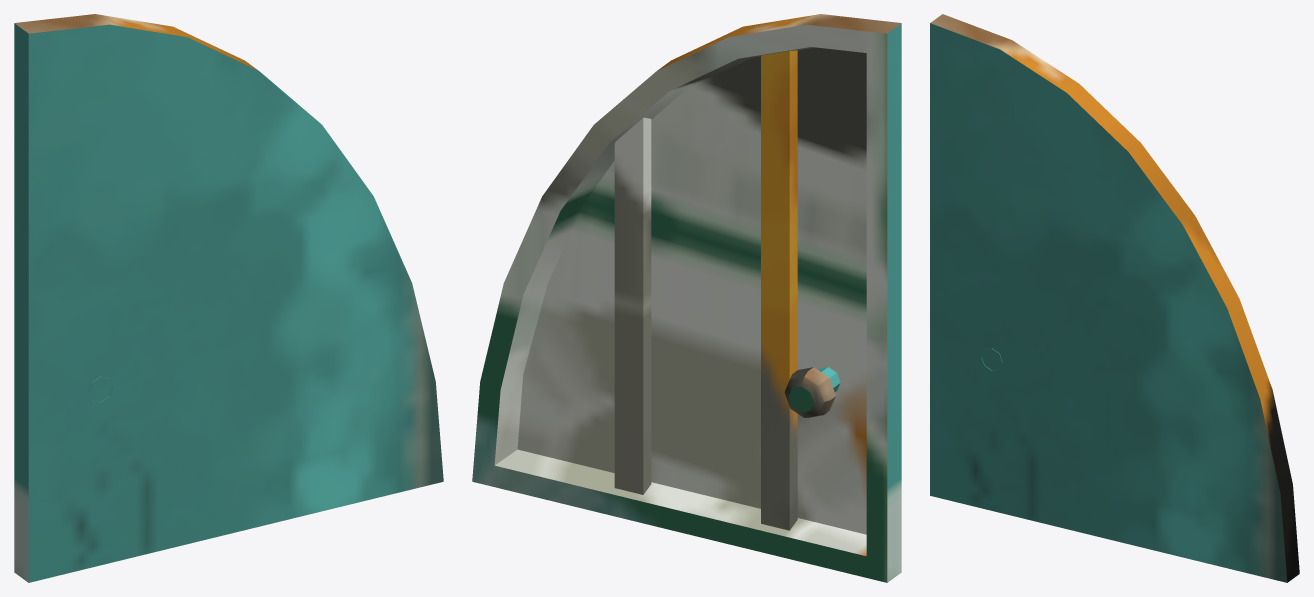
Rendered from RockBridgeDoor_left.fbx.
3 renders of one model, left to right at view 1: azimuth 30°, elevation 25°; view 2: azimuth 150°, elevation 25°; view 3: azimuth 330°, elevation 25°, orthographic. The views are drawn at different scales.
Parts seen in each view (by area): view 1: RockBridgeDoor_left; view 2: RockBridgeDoor_left; view 3: RockBridgeDoor_left.
Boxes of the visible parts, box(x1,y1,x2,y2) form: RockBridgeDoor_left: box(14, 14, 443, 582); RockBridgeDoor_left: box(472, 14, 901, 582); RockBridgeDoor_left: box(930, 14, 1299, 582).
Bounding box in the file's own units: 1.89 × 2.39 × 0.2271.
